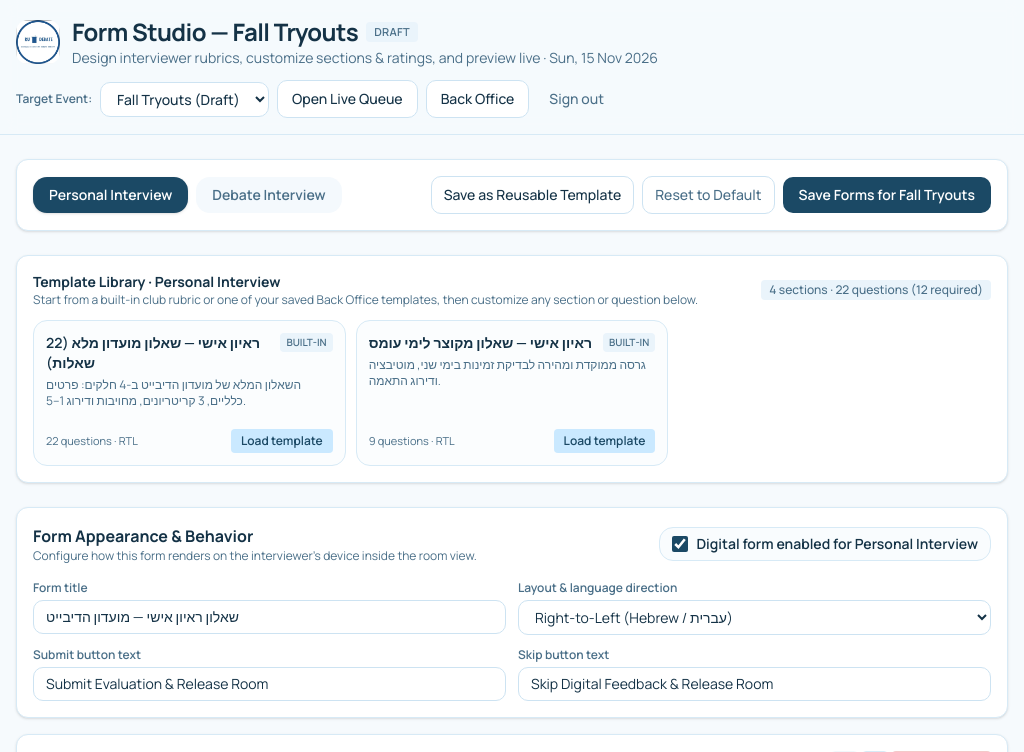
Test: FormStudio — Back Office Form Builder › saves a custom reusable template to the Back Office library
Click the button "Save as Reusable Template" at (532, 195), box [431,176,634,214]
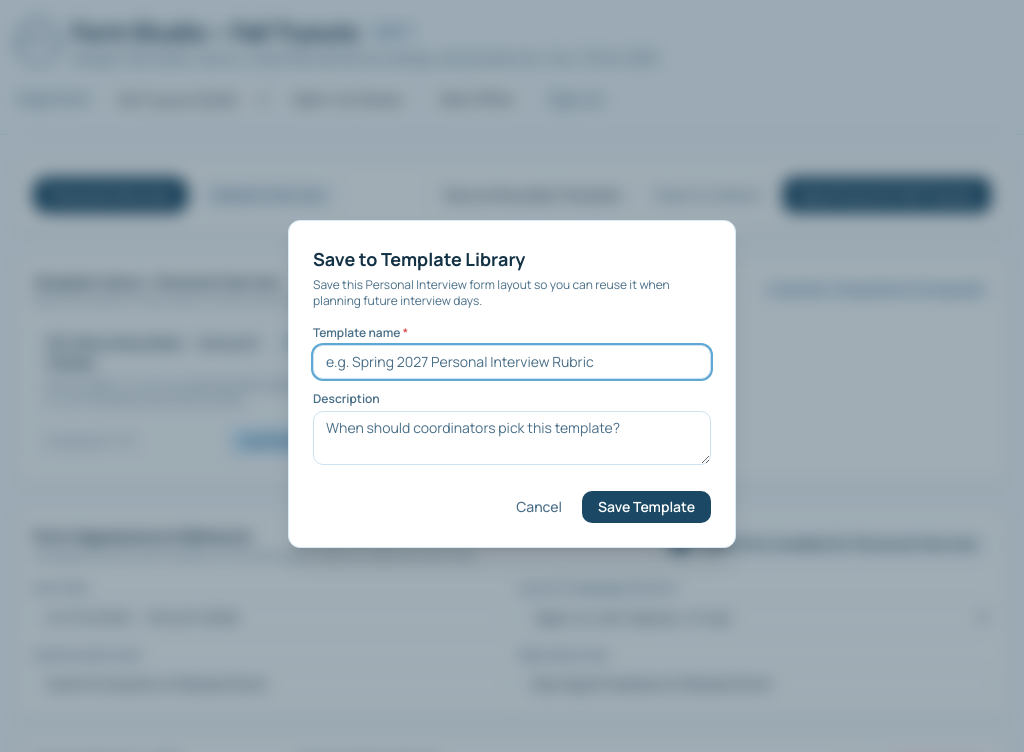
Type "Winter 2027 Custom Rubric" into the field labelled "Template name *" at (512, 362), box [313,345,711,379]
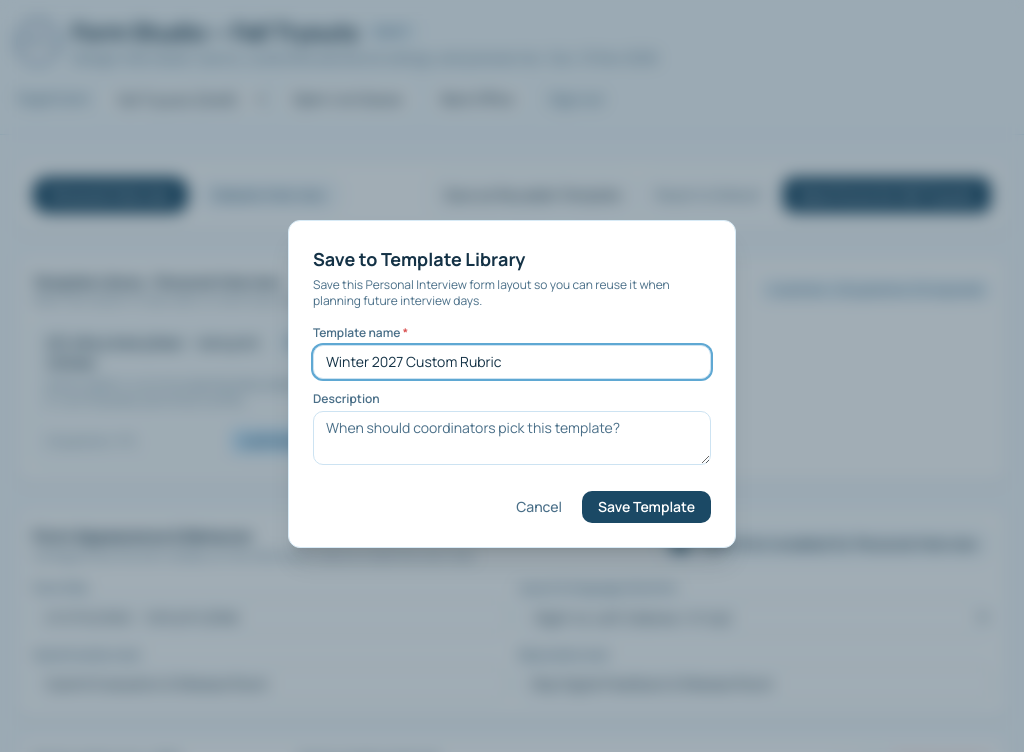
Click the button "Save Template" at (646, 507), box [582,491,711,523]
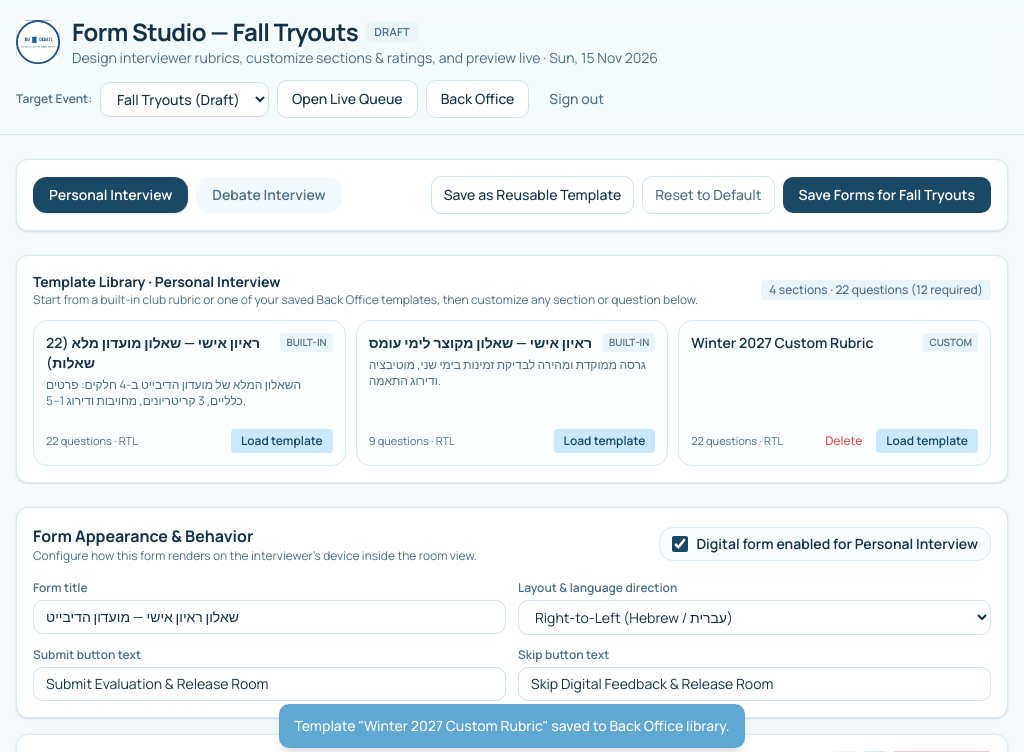
Expected: the heading "Winter 2027 Custom Rubric" is shown, [691,333,873,353]
